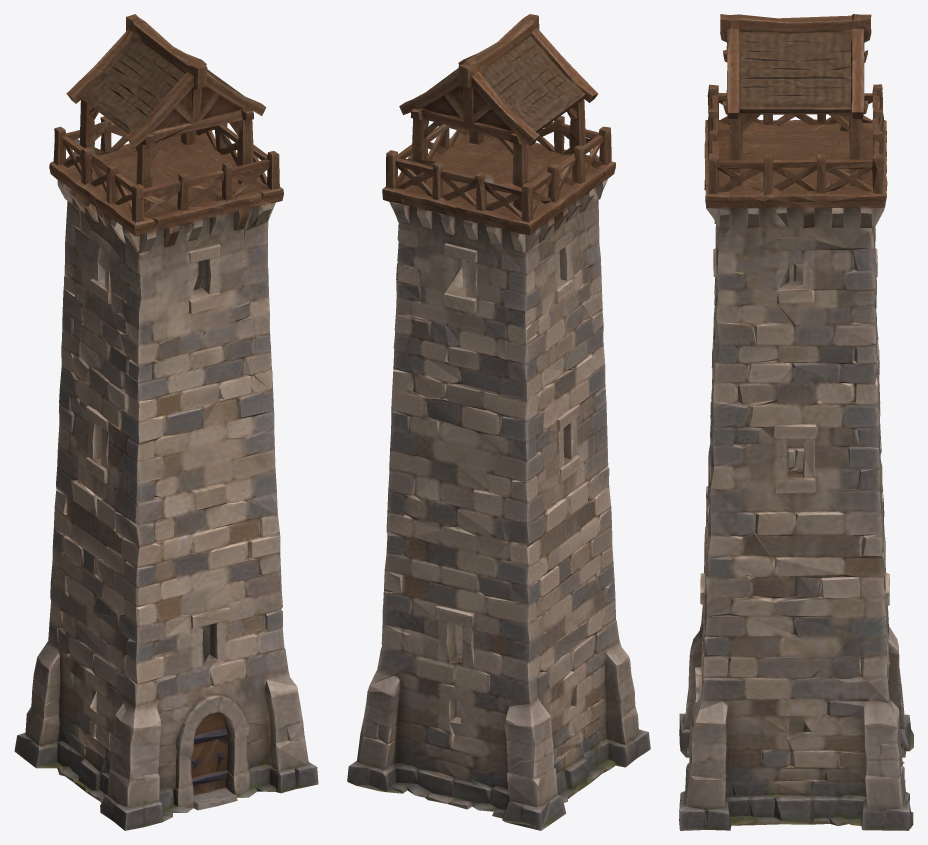
The model's file is tower.glb.
3 renders of one model, left to right at view 1: azimuth 30°, elevation 25°; view 2: azimuth 150°, elevation 25°; view 3: azimuth 270°, elevation 25°, orthographic. The views are drawn at different scales.
Bounding box in the file's own units: 0.5391 × 1.9 × 0.5282.
Materials: 1 (1 with a texture image).
